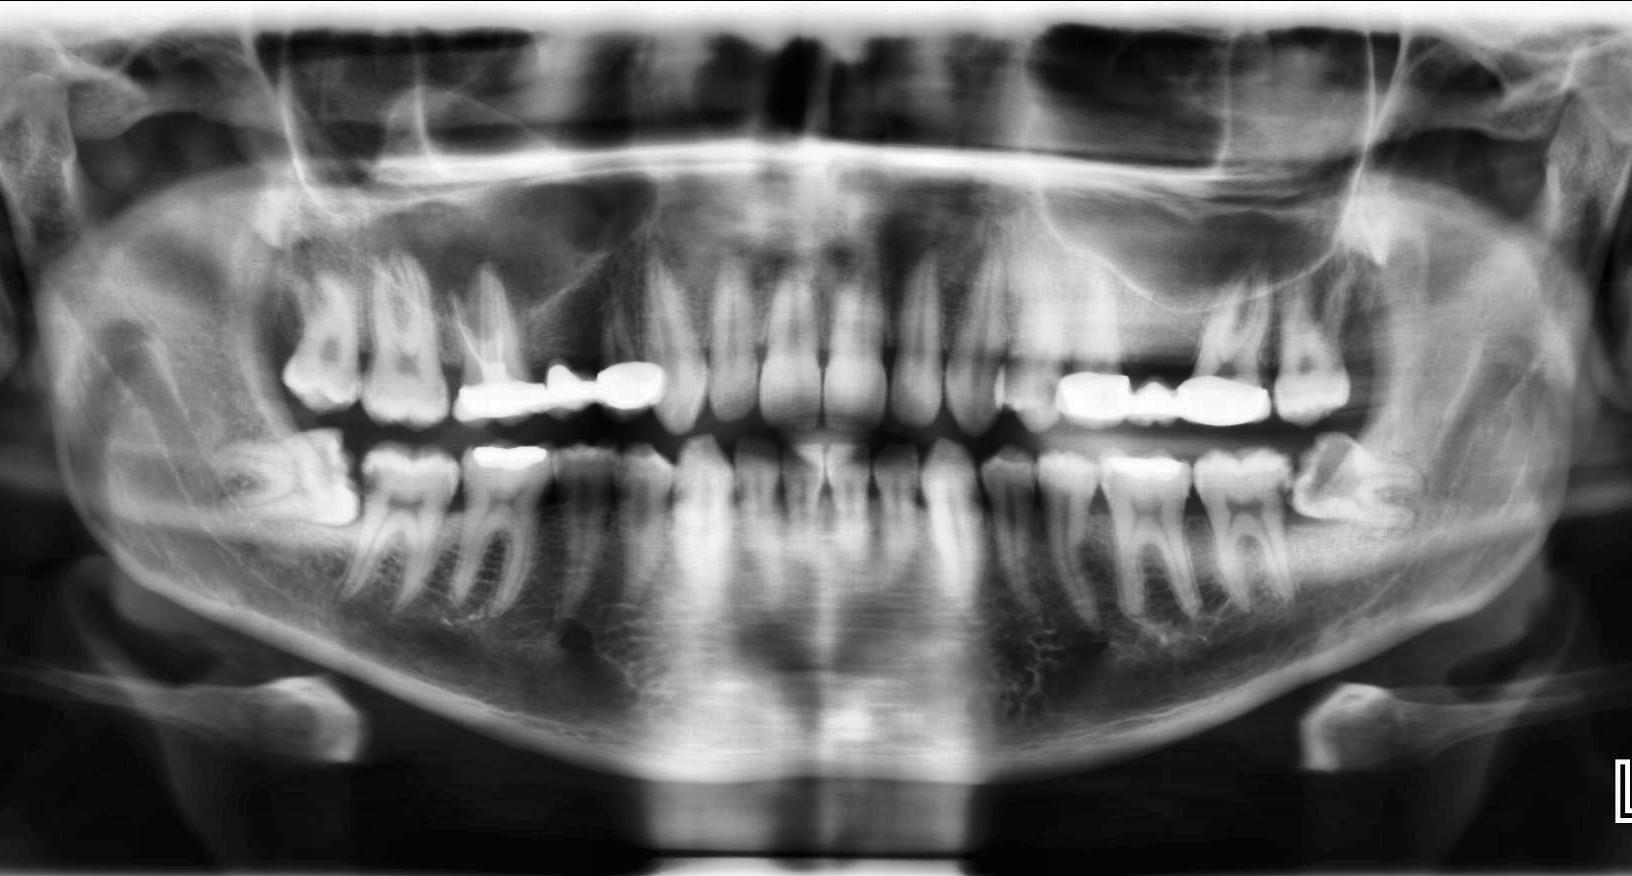radikuler: (348, 85, 658, 341)
